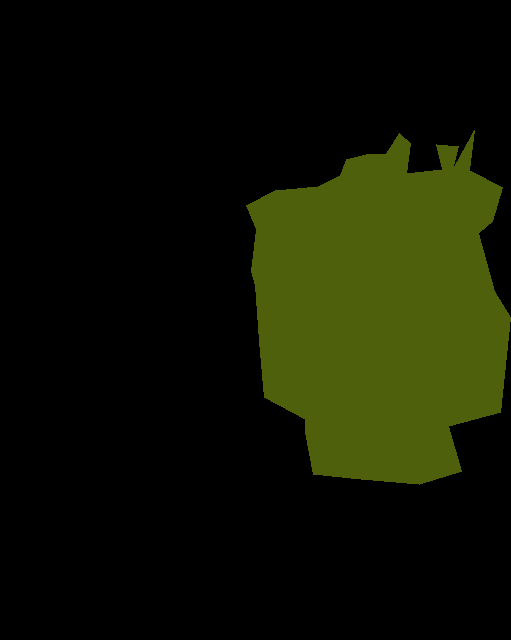Train: (246, 130, 510, 484)
